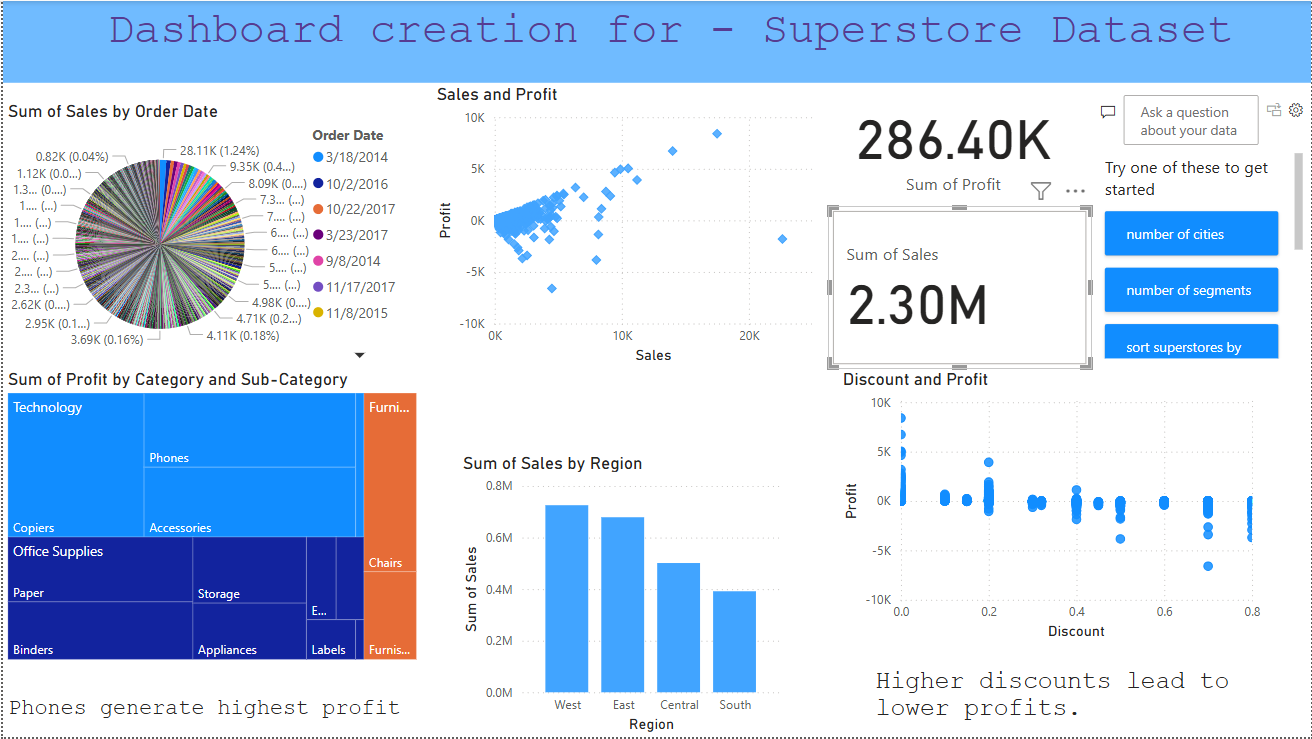

Layout of this report page (visuals, bound fields, positions):
{"tool":"powerbi","page":{"name":"Report","canvas":[1280,720],"ordinal":0},"visuals":[{"type":"columnChart","fields":{"Category":["Superstore.Region"],"Y":["Sum(Superstore.Sales)"]},"box":[445.1,441.4,320.4,278.8],"z":0},{"type":"scatterChart","fields":{"X":["Superstore.Sales"],"Y":["Superstore.Profit"]},"box":[419.4,80.7,387.6,278.8],"z":1000},{"type":"treemap","fields":{"Details":["Superstore.Sub-Category"],"Values":["Sum(Superstore.Profit)"],"Group":["Superstore.Category"]},"box":[0,359.5,409.6,289.8],"z":2000},{"type":"pieChart","fields":{"Category":["Superstore.Order Date"],"Y":["Sum(Superstore.Sales)"]},"box":[0,97.8,398.6,261.7],"z":3000},{"type":"scatterChart","fields":{"X":["Superstore.Discount"],"Y":["Superstore.Profit"]},"box":[816.9,359.5,418.2,270.2],"z":4000},{"type":"textbox","box":[0,675,410,45],"z":5000},{"type":"textbox","box":[848.3,646.7,431.7,73.3],"z":6000},{"type":"qnaVisual","box":[1065,66.7,215,291.7],"z":7000},{"type":"card","fields":{"Values":["Sum(Superstore.Profit)"]},"box":[794.8,80.7,270.2,118.6],"z":8000},{"type":"textbox","box":[0,0,1280,80],"z":9000},{"type":"cardVisual","fields":{"Data":["Sum(Superstore.Sales)"]},"box":[807,200,258,160],"z":10000}]}

Visuals, with their boxes in screenshot pixels (x1, y1, x2, y2), scaled from the page's 1280x720 canvas onto the 1312x739 screenshot:
columnChart - Superstore.Region x Sum(Superstore.Sales): {"left": 456, "top": 453, "right": 785, "bottom": 738}
scatterChart - Superstore.Sales x Superstore.Profit: {"left": 430, "top": 83, "right": 827, "bottom": 369}
treemap - Superstore.Sub-Category x Sum(Superstore.Profit): {"left": 0, "top": 369, "right": 420, "bottom": 666}
pieChart - Superstore.Order Date x Sum(Superstore.Sales): {"left": 0, "top": 100, "right": 409, "bottom": 369}
scatterChart - Superstore.Discount x Superstore.Profit: {"left": 837, "top": 369, "right": 1266, "bottom": 646}
textbox: {"left": 0, "top": 693, "right": 420, "bottom": 738}
textbox: {"left": 870, "top": 664, "right": 1311, "bottom": 738}
qnaVisual: {"left": 1092, "top": 68, "right": 1311, "bottom": 368}
card - Sum(Superstore.Profit): {"left": 815, "top": 83, "right": 1092, "bottom": 205}
textbox: {"left": 0, "top": 0, "right": 1311, "bottom": 82}
cardVisual - Sum(Superstore.Sales): {"left": 827, "top": 205, "right": 1092, "bottom": 369}
